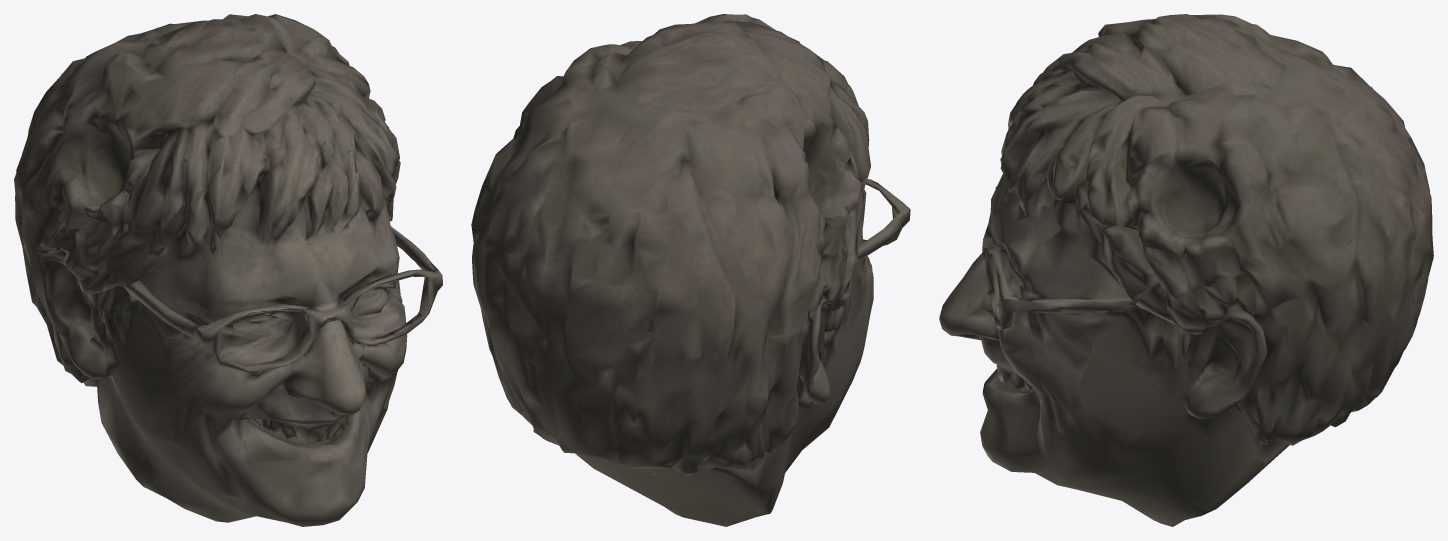
File: Grady-low.glb
3 renders of one model, left to right at view 1: azimuth 30°, elevation 25°; view 2: azimuth 150°, elevation 25°; view 3: azimuth 270°, elevation 25°, orthographic. The views are drawn at different scales.
Size of the model in its own units: 1.3 by 1.9 by 1.76.
1 material, 1 textured.
